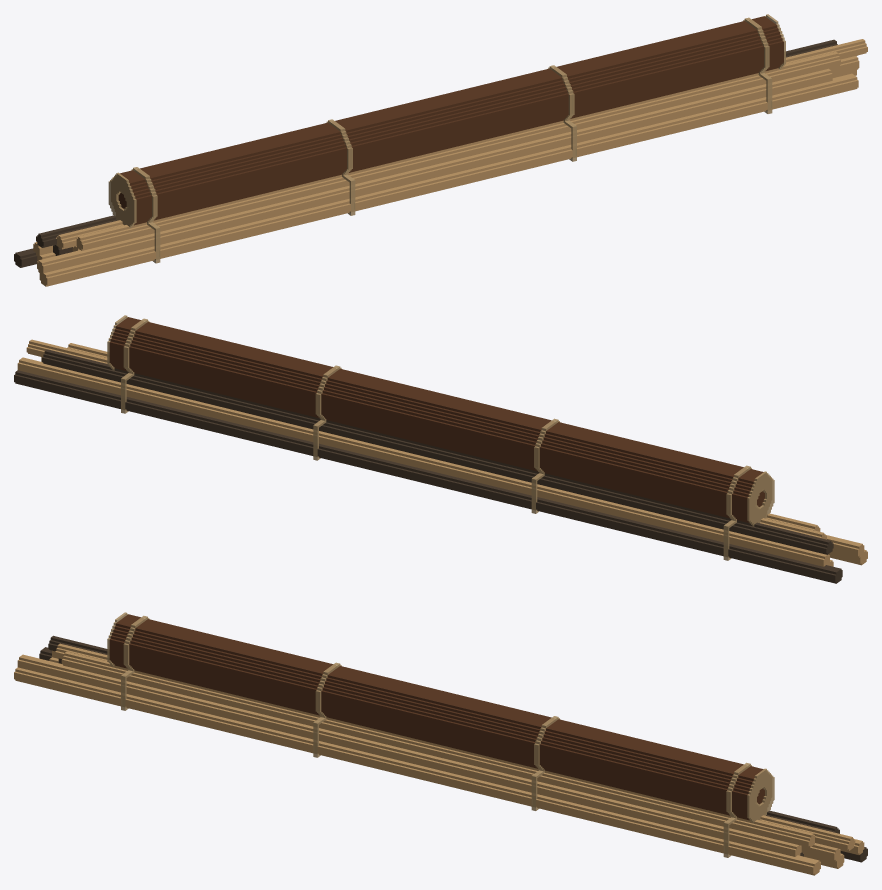
Rendered from large_shelter_kit.glb.
The picture shows the model from 3 angles, top to bottom: view 1: azimuth 30°, elevation 25°; view 2: azimuth 150°, elevation 25°; view 3: azimuth 330°, elevation 25°; orthographic projection.
Parts seen in each view (by area): view 1: large_shelter_kit:compound; view 2: large_shelter_kit:compound; view 3: large_shelter_kit:compound.
Part boxes in pixels (x1,y1,x2,y2): large_shelter_kit:compound: (14,14,867,286); large_shelter_kit:compound: (14,315,867,583); large_shelter_kit:compound: (14,612,867,875).
Bounding box in the file's own units: 3.01 × 0.272 × 0.208.
